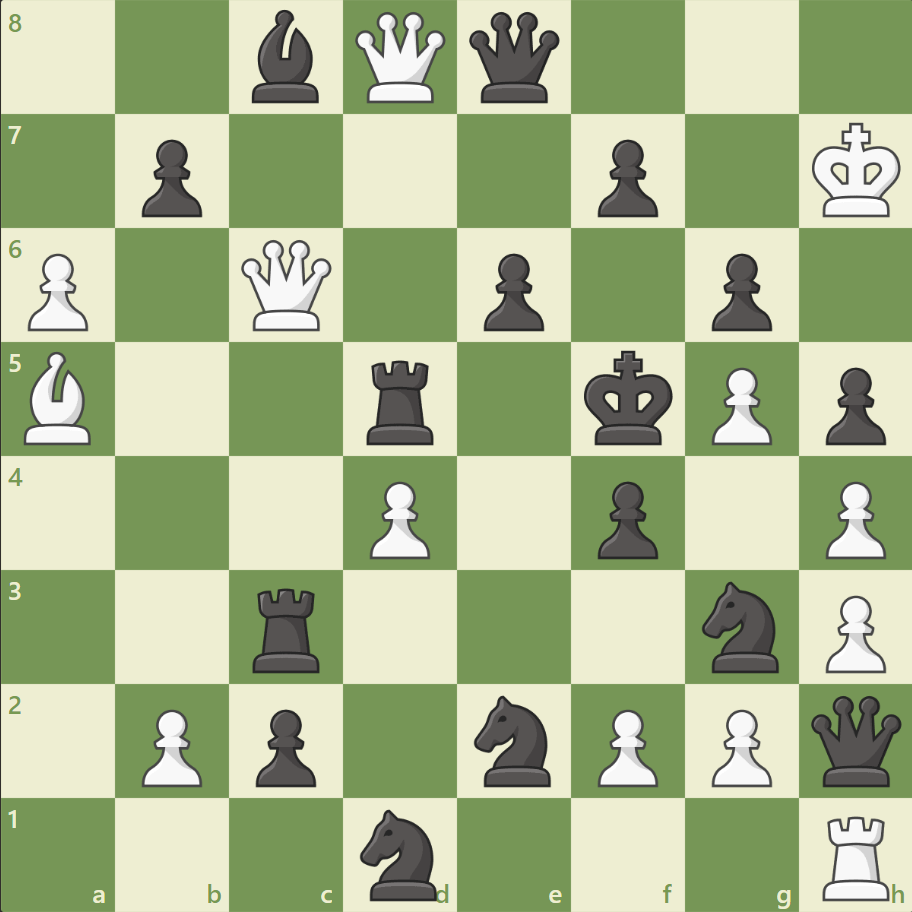B: (17, 347, 101, 449)
K: (806, 117, 906, 225)
P: (20, 246, 95, 337), (701, 359, 776, 450), (133, 700, 208, 791), (701, 700, 776, 791), (361, 473, 435, 564), (815, 473, 889, 564), (815, 586, 889, 677), (588, 700, 662, 791)
Q: (351, 9, 450, 108), (237, 236, 336, 335)
R: (814, 806, 897, 904)
b: (244, 6, 328, 109)
k: (579, 344, 679, 452)
n: (351, 802, 449, 904), (465, 688, 562, 791), (692, 575, 789, 677)
p: (133, 132, 208, 223), (474, 246, 549, 337), (701, 246, 776, 337), (247, 700, 322, 791), (588, 132, 662, 223), (815, 359, 889, 450), (588, 473, 662, 564)
q: (464, 9, 563, 108), (805, 690, 904, 789)
r: (246, 579, 329, 676), (360, 352, 442, 449)
